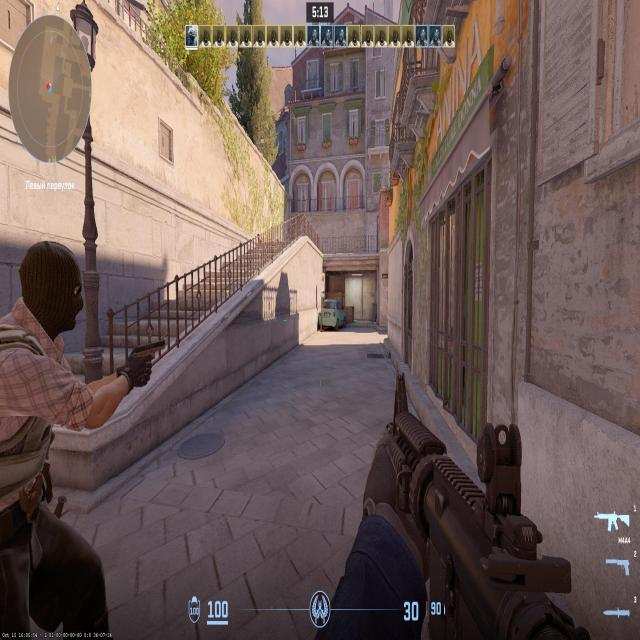T: (21, 249, 88, 594)
T_heat: (34, 272, 66, 331)
